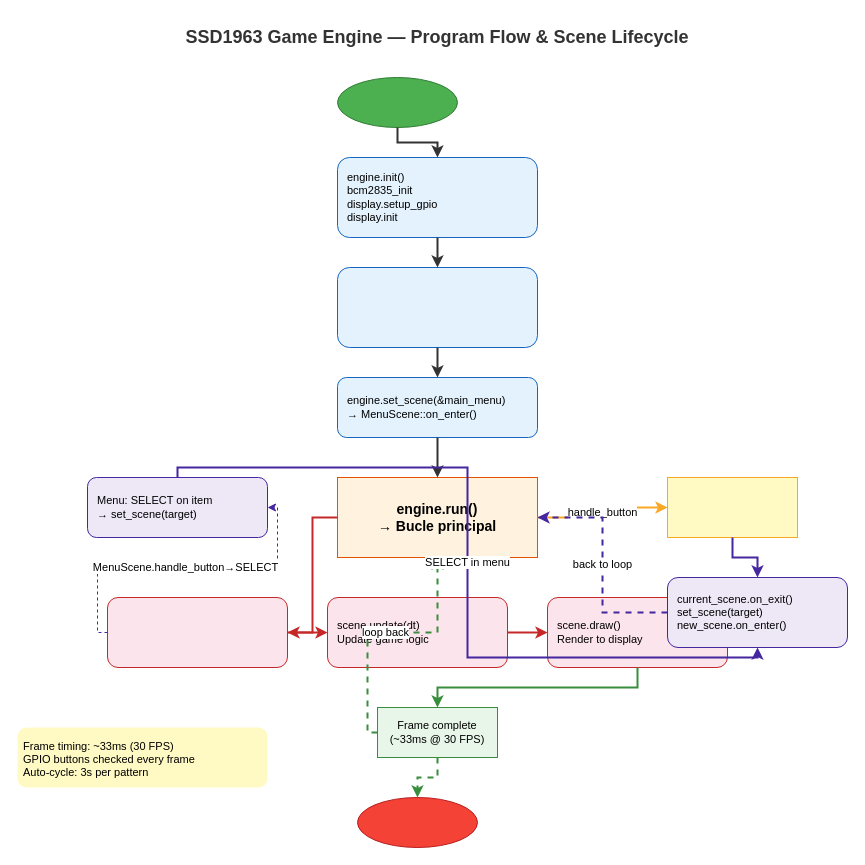
Image size: 865x865. Some labels were removed from this diagram. Each missing label, with the centre of its shape:
Create Scenes: MenuScene, ColorBlocks, ImageViewer, Paint, Patterns: point (437, 307)
engine.quit() → bcm2835_close(): point (417, 822)
main(): point (397, 102)
process_input() read_buttons() → scene.handle_button(): point (197, 632)
Scene Switch? button → MENU_ACTION_CHANGE: point (732, 507)
